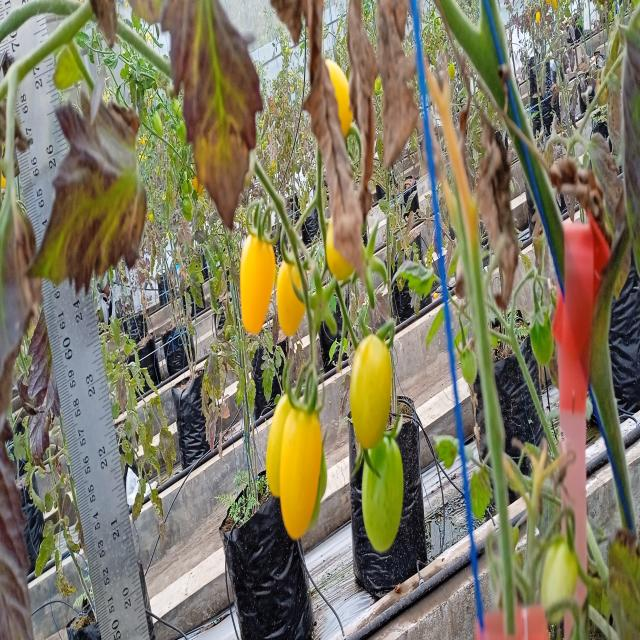fine: (279, 398, 325, 548), (237, 210, 280, 344), (348, 320, 393, 444), (275, 240, 314, 348), (266, 374, 291, 506)
unripe: (362, 432, 406, 560), (538, 532, 588, 635)
